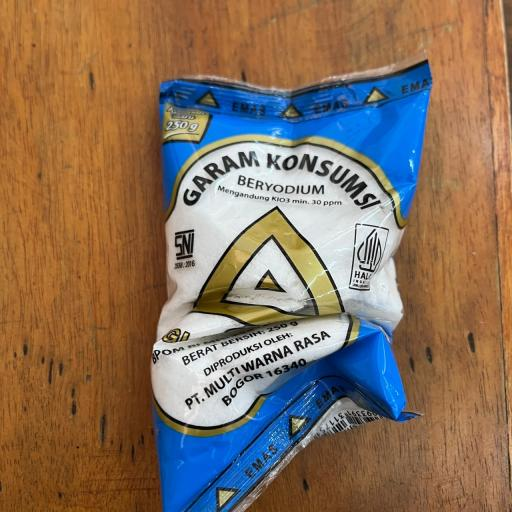Garam Segitiga Emas: (124, 42, 450, 512)
